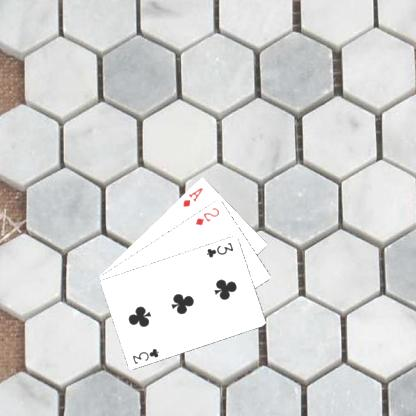2D: (192, 204, 221, 227)
3C: (129, 345, 161, 365), (203, 240, 235, 258)
AD: (180, 184, 205, 208)
